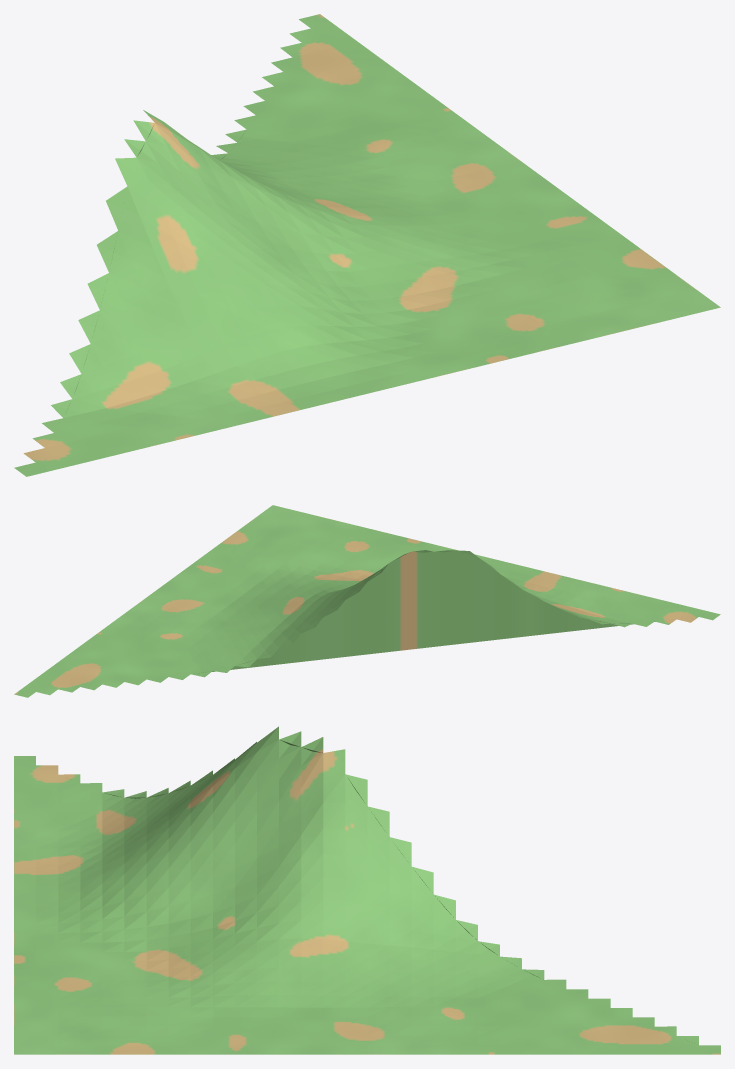
Rendered from Grass_Hills_02_NE.obj.
3 renders of one model, top to bottom at view 1: azimuth 30°, elevation 25°; view 2: azimuth 150°, elevation 25°; view 3: azimuth 270°, elevation 25°, orthographic. The views are drawn at different scales.
Bounding box in the file's own units: 10 × 2.19 × 10.
1 material, 1 textured.
